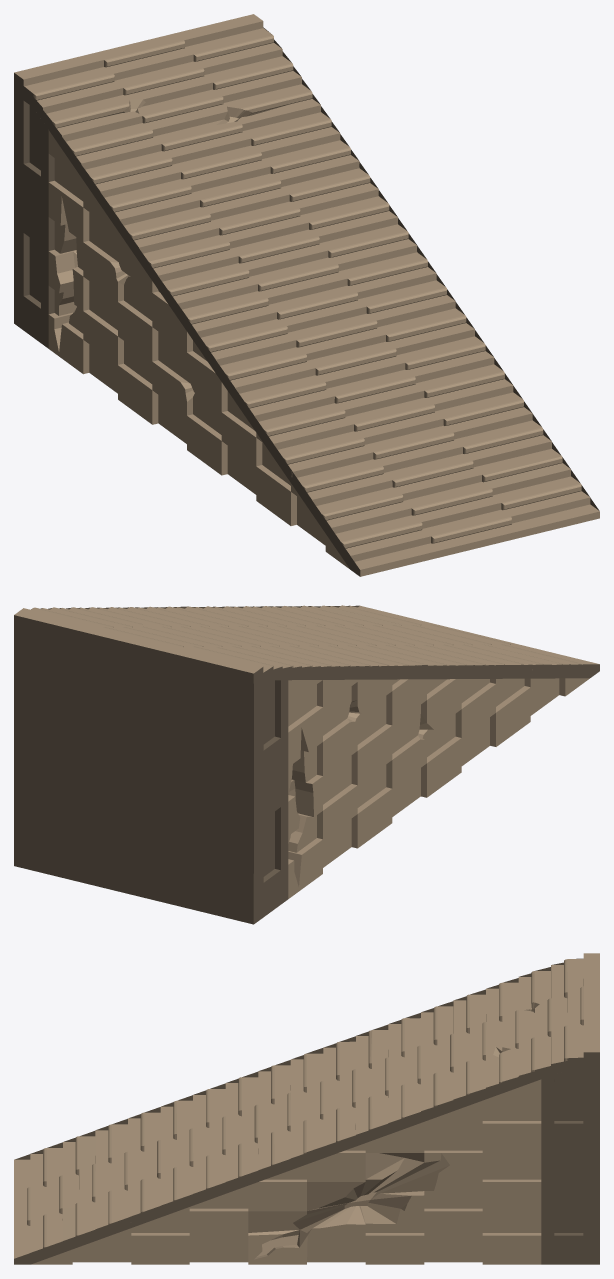
File: stairsBroken_5.4..fbx
The picture shows the model from 3 angles, top to bottom: view 1: azimuth 30°, elevation 25°; view 2: azimuth 150°, elevation 25°; view 3: azimuth 270°, elevation 25°; orthographic projection. The views are drawn at different scales.
Parts seen in each view (by area): view 1: stairsBroken; view 2: stairsBroken; view 3: stairsBroken.
Part boxes in pixels (left/top/right/bottom): stairsBroken: left=14, top=14, right=599, bottom=576; stairsBroken: left=14, top=605, right=599, bottom=924; stairsBroken: left=14, top=953, right=599, bottom=1264.
Bounding box in the file's own units: 400 × 400 × 1000.
